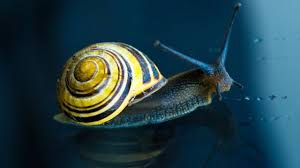slug: (56, 41, 243, 124)
